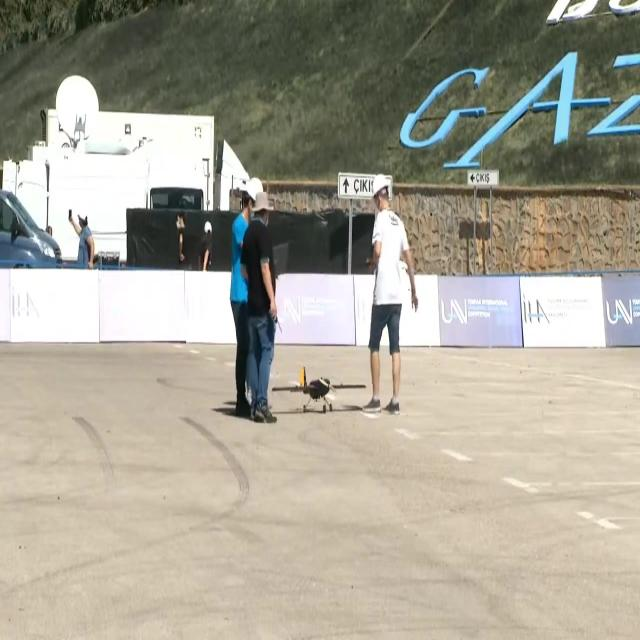iha: (302, 365, 336, 414)
